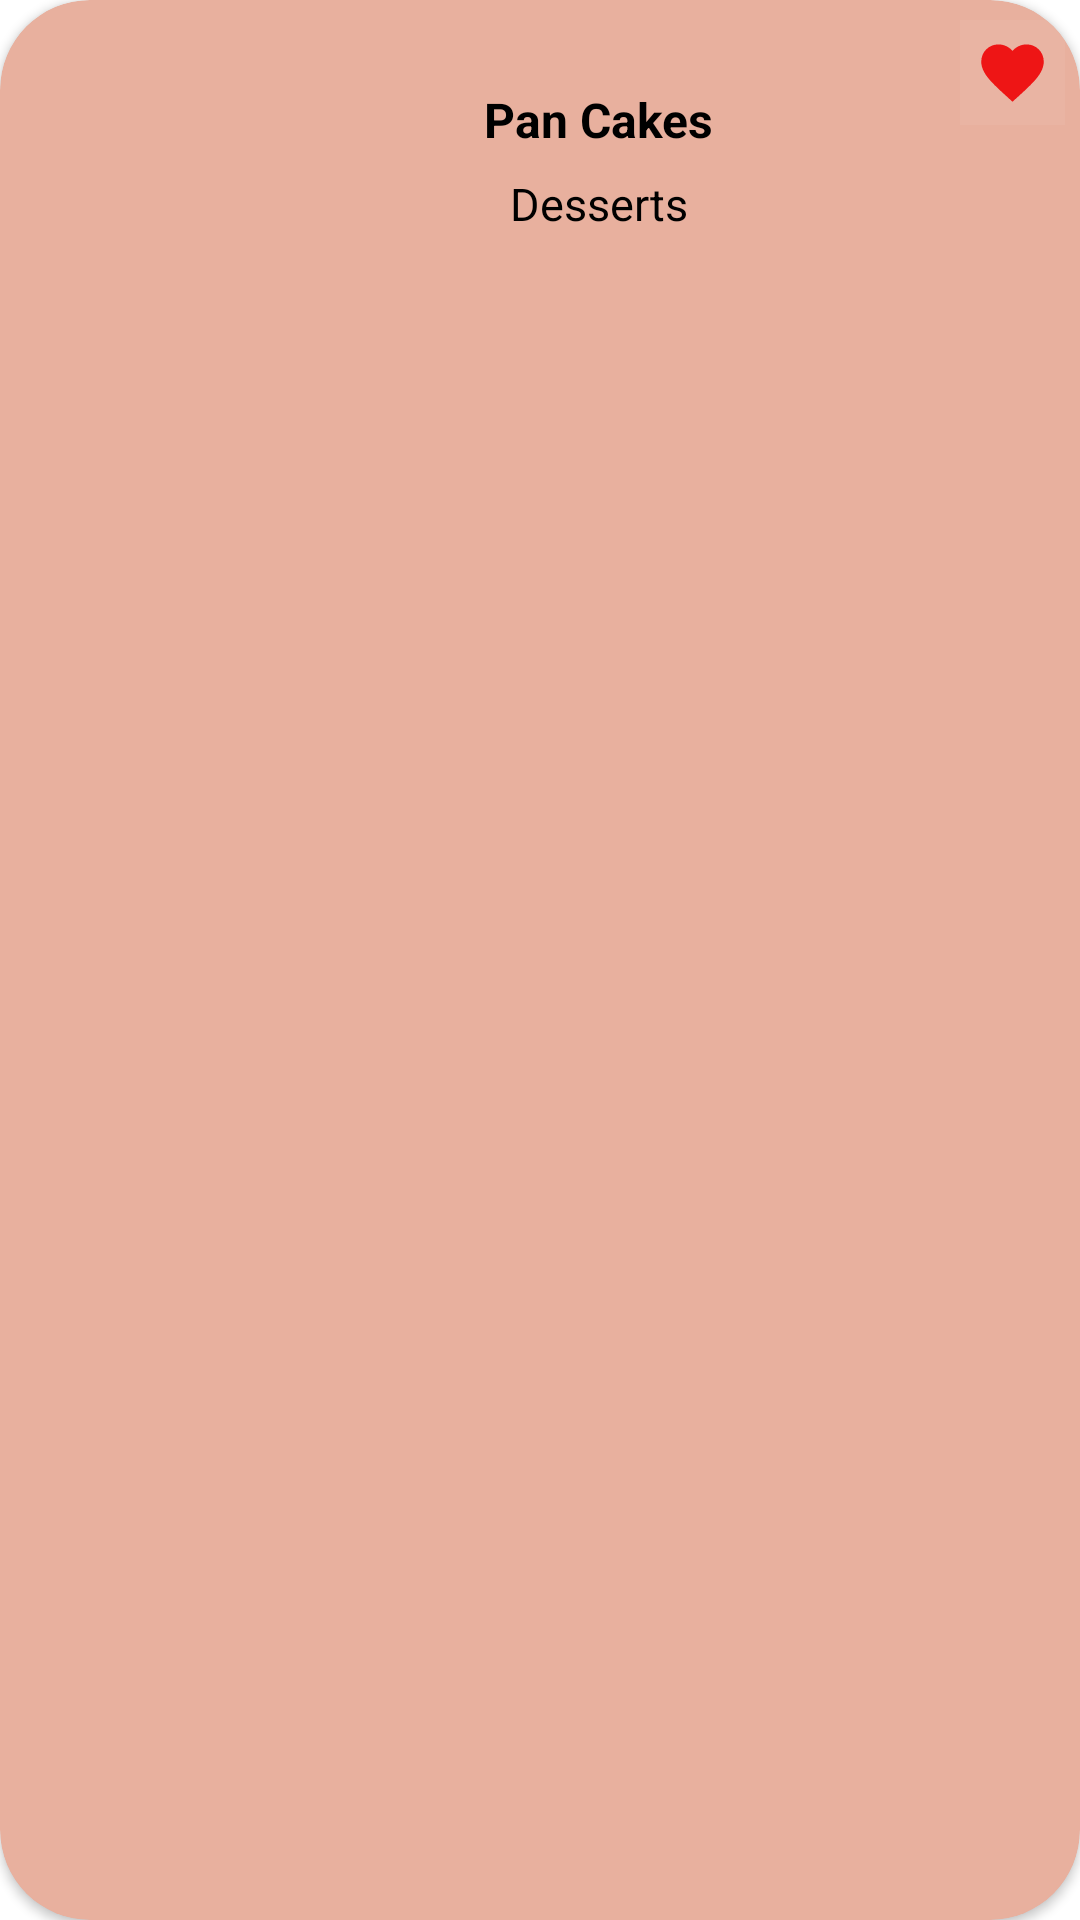

Named icons in this screenshot (1080*1920) and their bounding boxes, [x1,y1,x2,y2]:
favorite: [981,44,1044,102]
